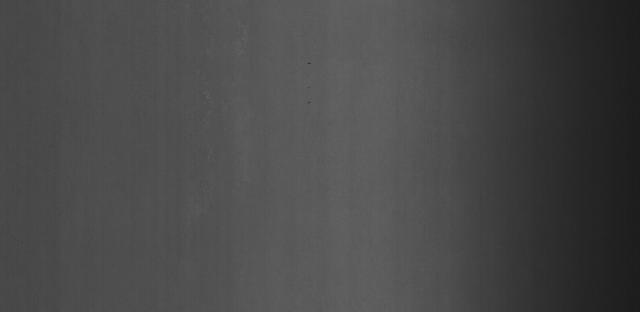inclusion: (301, 55, 316, 110)
